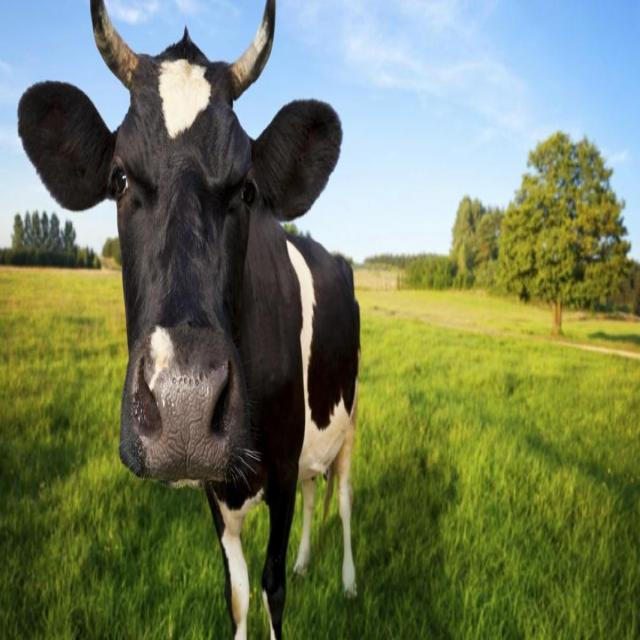Herbivorous: (15, 0, 361, 640)
